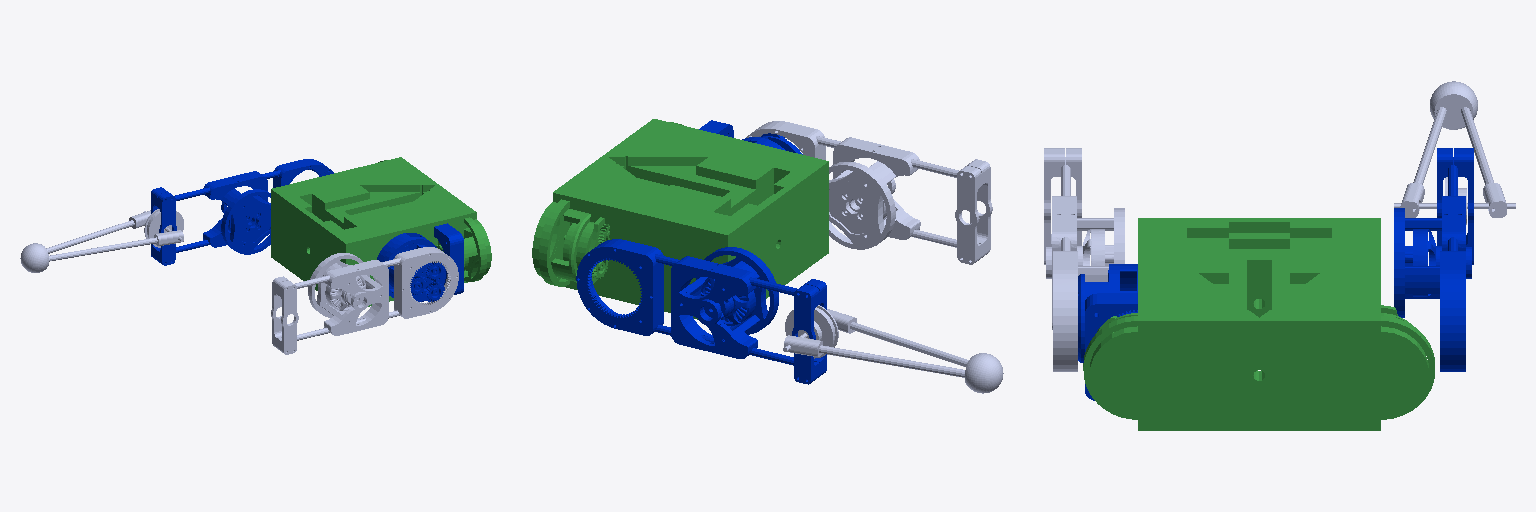
The robot description file, URDF, robot "Biped_NoWheels":
<?xml version="1.0" encoding="utf-8"?>
<!-- This URDF was automatically created by SolidWorks to URDF Exporter! Originally created by [author] ([email redacted]) 
     Commit Version: 1.6.0-4-g7f85cfe  Build Version: 1.6.7995.38578
     For more information, please see http://wiki.ros.org/sw_urdf_exporter -->
<robot
  name="Biped_NoWheels">
  <link
    name="Body">
    <inertial>
      <origin
        xyz="0.00875 -0.00011577 0.049281"
        rpy="0 0 0" />
      <mass
        value="0.5" />
      <inertia
        ixx="0.016664"
        ixy="-2.5802E-16"
        ixz="-2.5495E-05"
        iyy="0.01491"
        iyz="3.7322E-12"
        izz="0.025732" />
    </inertial>
    <visual>
      <origin
        xyz="0 0 0"
        rpy="0 0 0" />
      <geometry>
        <mesh
          filename="../meshes/Body.STL" />
      </geometry>
      <material
        name="">
        <color
          rgba="0.28627 0.66275 0.32941 1" />
      </material>
    </visual>
    <collision>
      <origin
        xyz="0 0 0"
        rpy="0 0 0" />
      <geometry>
        <mesh
          filename="../meshes/Body.STL" />
      </geometry>
    </collision>
  </link>
  <link
    name="L_Hip">
    <inertial>
      <origin
        xyz="-0.029749 0.019238 -1.7814E-08"
        rpy="0 0 0" />
      <mass
        value="0.24499" />
      <inertia
        ixx="0.00022957"
        ixy="-3.2972E-12"
        ixz="-2.2508E-10"
        iyy="0.00023971"
        iyz="-5.4613E-12"
        izz="0.00016193" />
    </inertial>
    <visual>
      <origin
        xyz="0 0 0"
        rpy="0 0 0" />
      <geometry>
        <mesh
          filename="../meshes/L_Hip.STL" />
      </geometry>
      <material
        name="">
        <color
          rgba="0.0078431 0.23922 0.82353 1" />
      </material>
    </visual>
    <collision>
      <origin
        xyz="0 0 0"
        rpy="0 0 0" />
      <geometry>
        <mesh
          filename="../meshes/L_Hip.STL" />
      </geometry>
    </collision>
  </link>
  <joint
    name="L_J1"
    type="revolute">
    <origin
      xyz="0.034433 0.1 0.05"
      rpy="0 0 0" />
    <parent
      link="Body" />
    <child
      link="L_Hip" />
    <axis
      xyz="1 0 0" />
    <limit
      lower="-0.35"
      upper="0.35"
      effort="2"
      velocity="0" />
  </joint>
  <link
    name="L_Thigh">
    <inertial>
      <origin
        xyz="-0.098727 -0.021408 5.2332E-07"
        rpy="0 0 0" />
      <mass
        value="0.24662" />
      <inertia
        ixx="0.00019357"
        ixy="-2.9018E-06"
        ixz="1.9838E-08"
        iyy="0.00032526"
        iyz="1.1756E-10"
        izz="0.00016215" />
    </inertial>
    <visual>
      <origin
        xyz="0 0 0"
        rpy="0 0 0" />
      <geometry>
        <mesh
          filename="../meshes/L_Thigh.STL" />
      </geometry>
      <material
        name="">
        <color
          rgba="0.0078431 0.23922 0.82353 1" />
      </material>
    </visual>
    <collision>
      <origin
        xyz="0 0 0"
        rpy="0 0 0" />
      <geometry>
        <mesh
          filename="../meshes/L_Thigh.STL" />
      </geometry>
    </collision>
  </link>
  <joint
    name="L_J2"
    type="revolute">
    <origin
      xyz="-0.04598 0.07 0"
      rpy="0 0 0" />
    <parent
      link="L_Hip" />
    <child
      link="L_Thigh" />
    <axis
      xyz="0 -1 0" />
    <limit
      lower="-2.8"
      upper="2.8"
      effort="2"
      velocity="0" />
  </joint>
  <link
    name="L_Shin">
    <inertial>
      <origin
        xyz="-0.083975 -0.0098423 1.5717E-05"
        rpy="0 0 0" />
      <mass
        value="0.072375" />
      <inertia
        ixx="1.209E-05"
        ixy="1.1864E-08"
        ixz="-6.4688E-11"
        iyy="2.9394E-05"
        iyz="-8.568E-09"
        izz="2.7528E-05" />
    </inertial>
    <visual>
      <origin
        xyz="0 0 0"
        rpy="0 0 0" />
      <geometry>
        <mesh
          filename="../meshes/L_Shin.STL" />
      </geometry>
      <material
        name="">
        <color
          rgba="0.79216 0.81961 0.93333 1" />
      </material>
    </visual>
    <collision>
      <origin
        xyz="0 0 0"
        rpy="0 0 0" />
      <geometry>
        <mesh
          filename="../meshes/L_Shin.STL" />
      </geometry>
    </collision>
  </link>
  <joint
    name="L_J3"
    type="revolute">
    <origin
      xyz="-0.218 0 0"
      rpy="0 0 0" />
    <parent
      link="L_Thigh" />
    <child
      link="L_Shin" />
    <axis
      xyz="0 1 0" />
    <limit
      lower="-2.8"
      upper="2.8"
      effort="2"
      velocity="0" />
  </joint>
  <link
    name="R_Hip">
    <inertial>
      <origin
        xyz="-0.029749 -0.019238 1.7814E-08"
        rpy="0 0 0" />
      <mass
        value="0.24499" />
      <inertia
        ixx="0.00022957"
        ixy="3.2972E-12"
        ixz="2.2508E-10"
        iyy="0.00023971"
        iyz="-5.4613E-12"
        izz="0.00016193" />
    </inertial>
    <visual>
      <origin
        xyz="0 0 0"
        rpy="0 0 0" />
      <geometry>
        <mesh
          filename="../meshes/R_Hip.STL" />
      </geometry>
      <material
        name="">
        <color
          rgba="0.0078431 0.23922 0.82353 1" />
      </material>
    </visual>
    <collision>
      <origin
        xyz="0 0 0"
        rpy="0 0 0" />
      <geometry>
        <mesh
          filename="../meshes/R_Hip.STL" />
      </geometry>
    </collision>
  </link>
  <joint
    name="R_J1"
    type="revolute">
    <origin
      xyz="0.034433 -0.1 0.05"
      rpy="0 0 0" />
    <parent
      link="Body" />
    <child
      link="R_Hip" />
    <axis
      xyz="1 0 0" />
    <limit
      lower="-0.35"
      upper="0.35"
      effort="2"
      velocity="0" />
  </joint>
  <link
    name="R_Thigh">
    <inertial>
      <origin
        xyz="-0.098727 0.021408 -5.2332E-07"
        rpy="0 0 0" />
      <mass
        value="0.24662" />
      <inertia
        ixx="0.00019357"
        ixy="2.9018E-06"
        ixz="-1.9838E-08"
        iyy="0.00032526"
        iyz="1.1756E-10"
        izz="0.00016215" />
    </inertial>
    <visual>
      <origin
        xyz="0 0 0"
        rpy="0 0 0" />
      <geometry>
        <mesh
          filename="../meshes/R_Thigh.STL" />
      </geometry>
      <material
        name="">
        <color
          rgba="0.79216 0.81961 0.93333 1" />
      </material>
    </visual>
    <collision>
      <origin
        xyz="0 0 0"
        rpy="0 0 0" />
      <geometry>
        <mesh
          filename="../meshes/R_Thigh.STL" />
      </geometry>
    </collision>
  </link>
  <joint
    name="R_J2"
    type="revolute">
    <origin
      xyz="-0.04598 -0.07 0"
      rpy="0 0 0" />
    <parent
      link="R_Hip" />
    <child
      link="R_Thigh" />
    <axis
      xyz="0 1 0" />
    <limit
      lower="-2.8"
      upper="2.8"
      effort="2"
      velocity="0" />
  </joint>
  <link
    name="R_Shin">
    <inertial>
      <origin
        xyz="-0.083975 0.0098423 -1.5717E-05"
        rpy="0 0 0" />
      <mass
        value="0.072375" />
      <inertia
        ixx="1.209E-05"
        ixy="-1.1864E-08"
        ixz="6.4688E-11"
        iyy="2.9394E-05"
        iyz="-8.568E-09"
        izz="2.7528E-05" />
    </inertial>
    <visual>
      <origin
        xyz="0 0 0"
        rpy="0 0 0" />
      <geometry>
        <mesh
          filename="../meshes/R_Shin.STL" />
      </geometry>
      <material
        name="">
        <color
          rgba="0.79216 0.81961 0.93333 1" />
      </material>
    </visual>
    <collision>
      <origin
        xyz="0 0 0"
        rpy="0 0 0" />
      <geometry>
        <mesh
          filename="../meshes/R_Shin.STL" />
      </geometry>
    </collision>
  </link>
  <joint
    name="R_J3"
    type="revolute">
    <origin
      xyz="-0.218 0 0"
      rpy="0 0 0" />
    <parent
      link="R_Thigh" />
    <child
      link="R_Shin" />
    <axis
      xyz="0 -1 0" />
    <limit
      lower="-2.8"
      upper="2.8"
      effort="2"
      velocity="0" />
  </joint>
</robot>

--- What the picture shows (computed from the rendered views, not written in the file) ---
Views: 3 orthographic renders of the robot side by side, from view 1: azimuth 30°, elevation 25°; view 2: azimuth 150°, elevation 25°; view 3: azimuth 270°, elevation 25°.
Model Biped_NoWheels with 7 links and 6 joints (6 revolute), rooted at Body, posed every joint at zero.
Visible links, largest first — view 1: Body, R_Thigh, L_Thigh, R_Hip, L_Shin; view 2: Body, L_Thigh, R_Thigh, L_Shin, R_Hip; view 3: Body, L_Thigh, R_Thigh, L_Shin, R_Hip.
Boxes of the visible links, x1,y1,x2,y2 form: Body: (271, 157, 491, 306); R_Thigh: (271, 247, 458, 354); L_Thigh: (151, 159, 333, 265); R_Hip: (377, 223, 463, 301); L_Shin: (20, 209, 183, 272); Body: (532, 119, 828, 319); L_Thigh: (576, 239, 826, 384); R_Thigh: (746, 121, 992, 264); L_Shin: (783, 305, 1003, 393); R_Hip: (699, 120, 802, 154); Body: (1083, 218, 1434, 430); L_Thigh: (1394, 148, 1473, 371); R_Thigh: (1044, 148, 1124, 371); L_Shin: (1394, 81, 1515, 224); R_Hip: (1078, 264, 1137, 400).
Size in the robot's own frame: 0.546 by 0.388 by 0.1 metres.
5 mesh visuals loaded from 7 distinct referenced files (5 binary STL); not drawn: 2 (reference not matched to a file when rendering).
